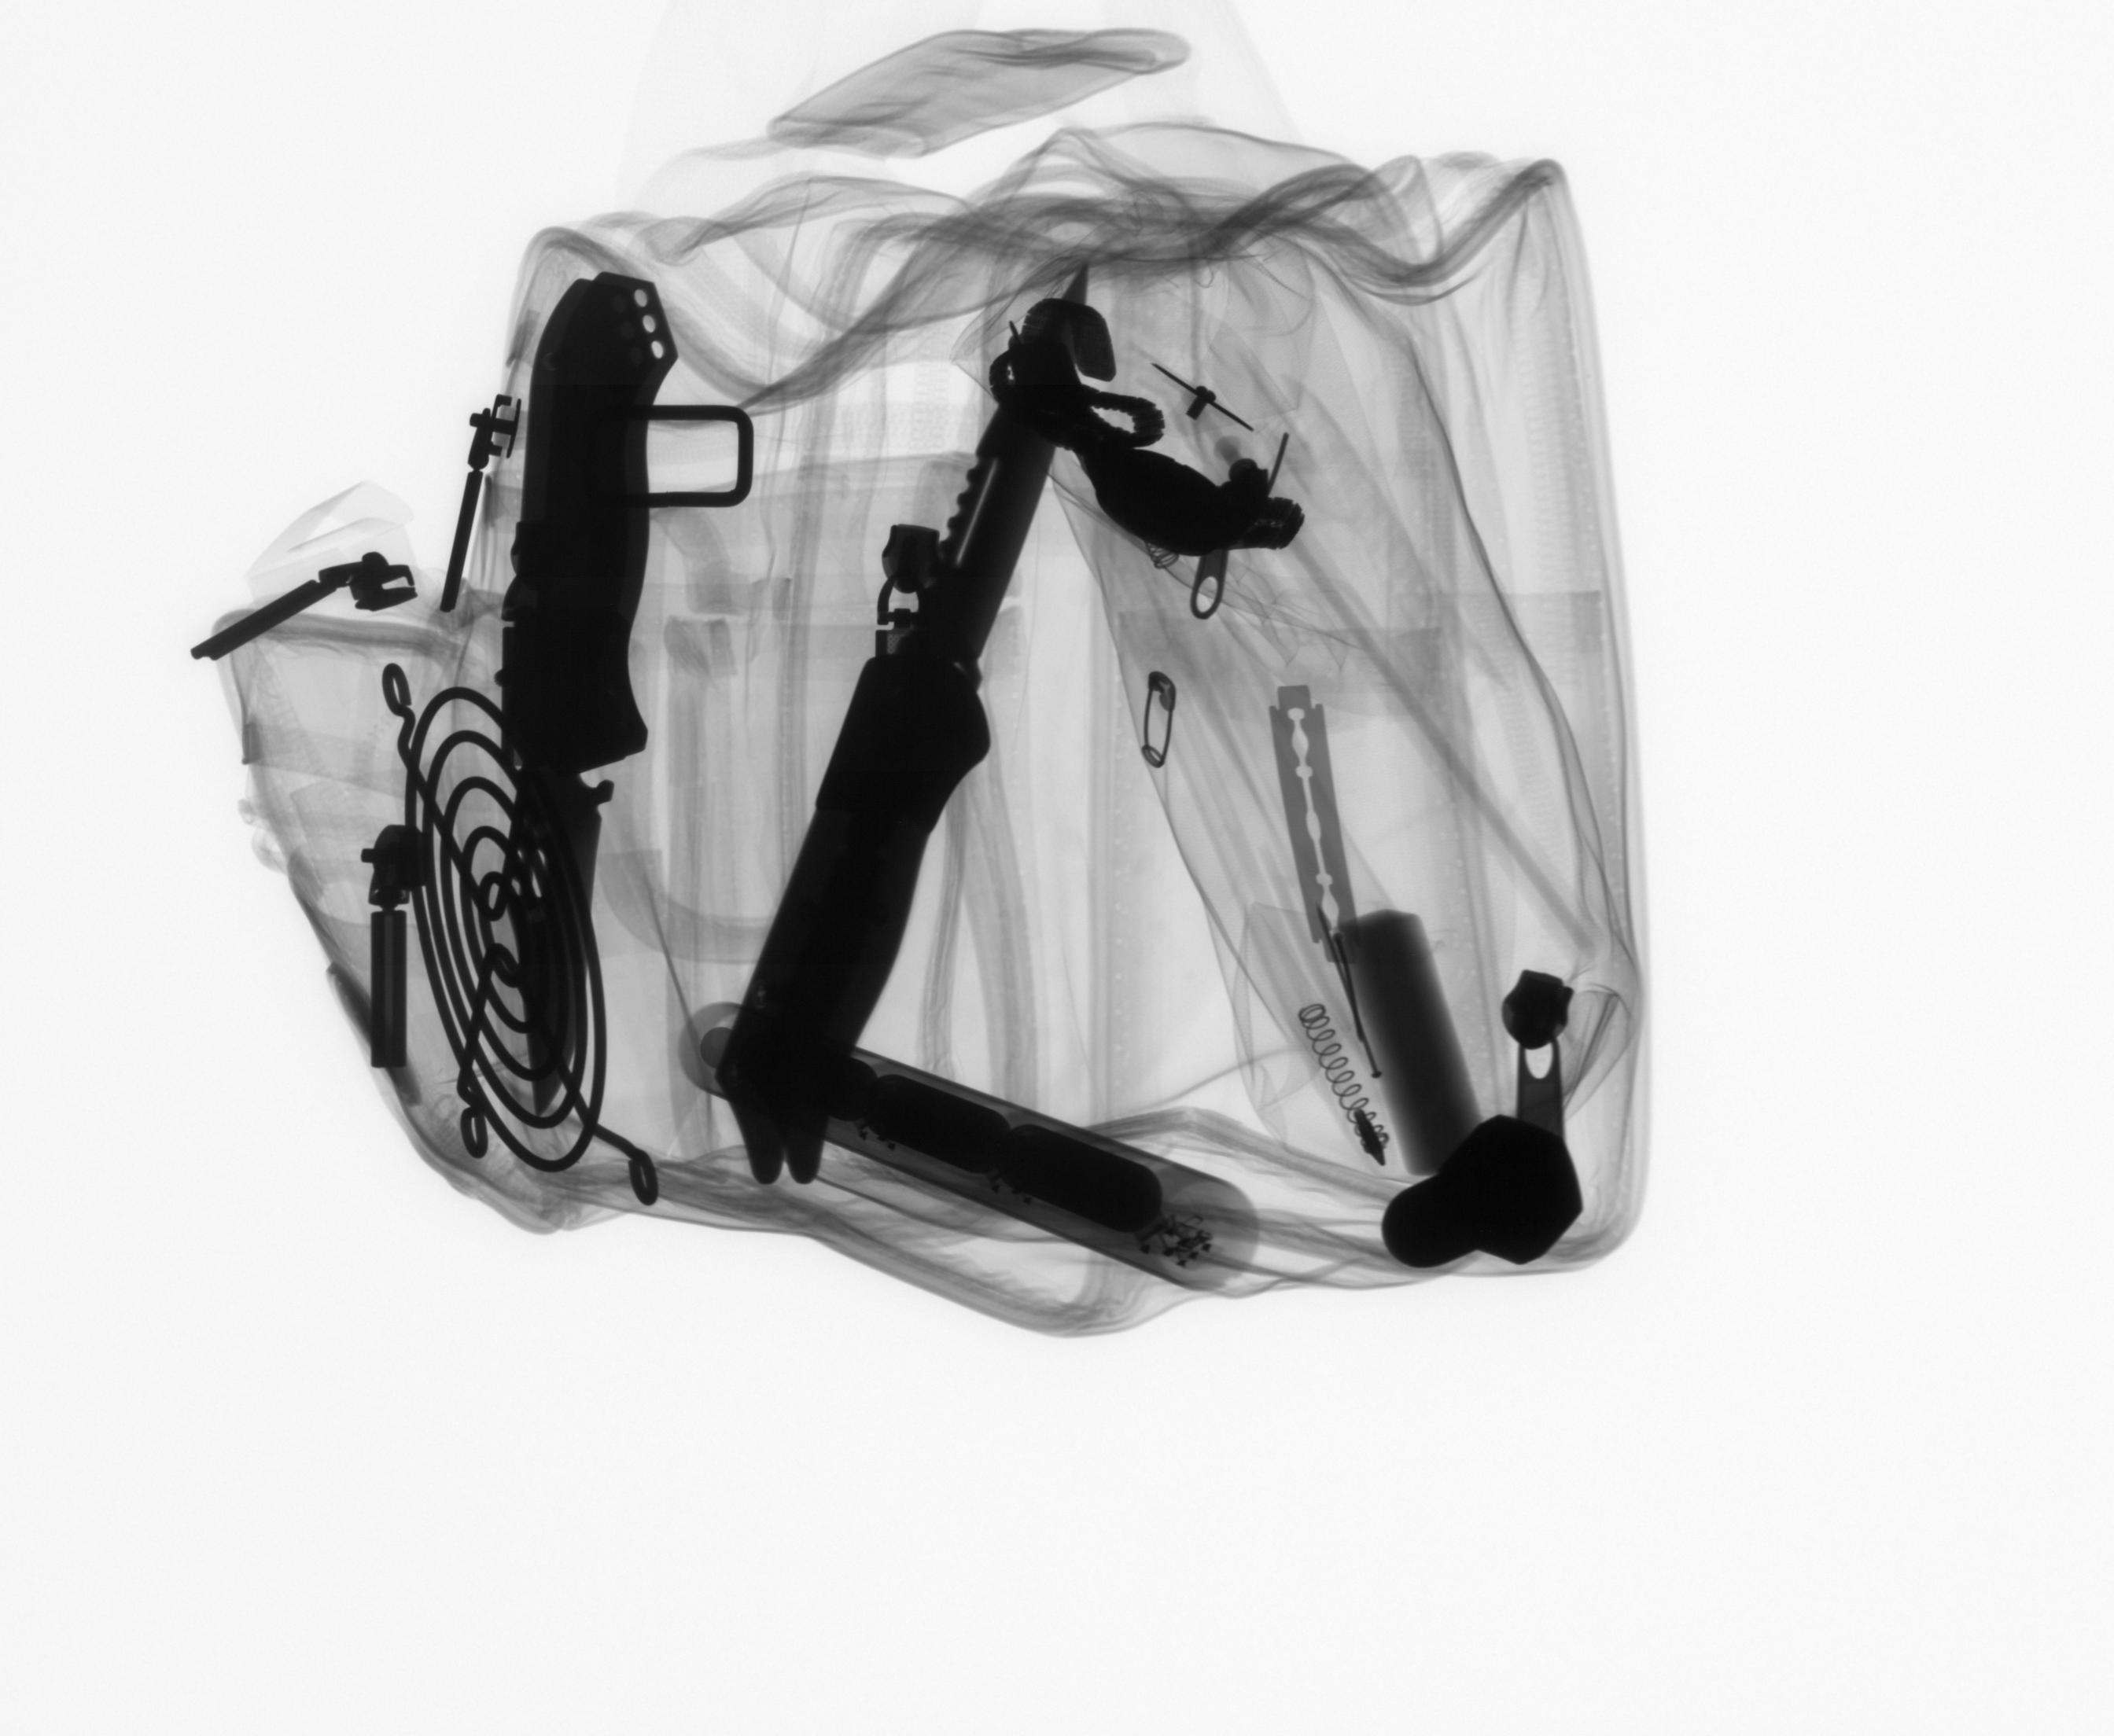Knife: (709, 252, 1099, 1196), (490, 265, 688, 1124)
RazorBlade: (1254, 677, 1372, 951)
